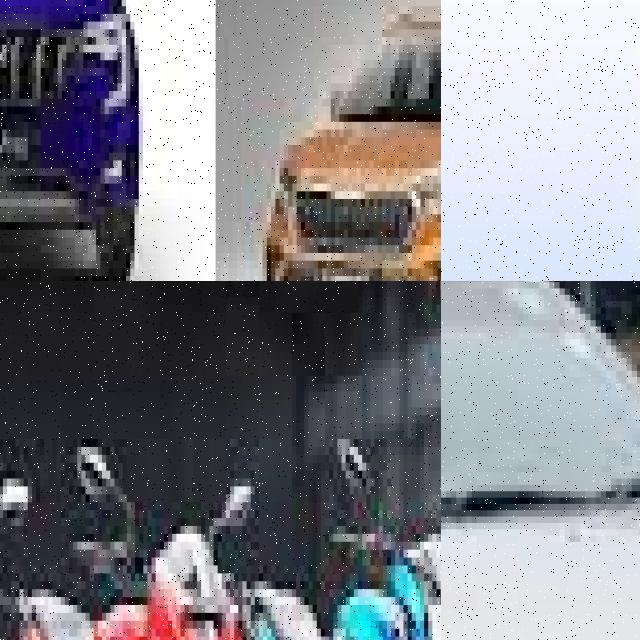bike: (7, 447, 254, 640), (242, 439, 441, 640), (0, 391, 48, 640)
car: (441, 281, 640, 640), (258, 0, 441, 281), (0, 0, 164, 281)
